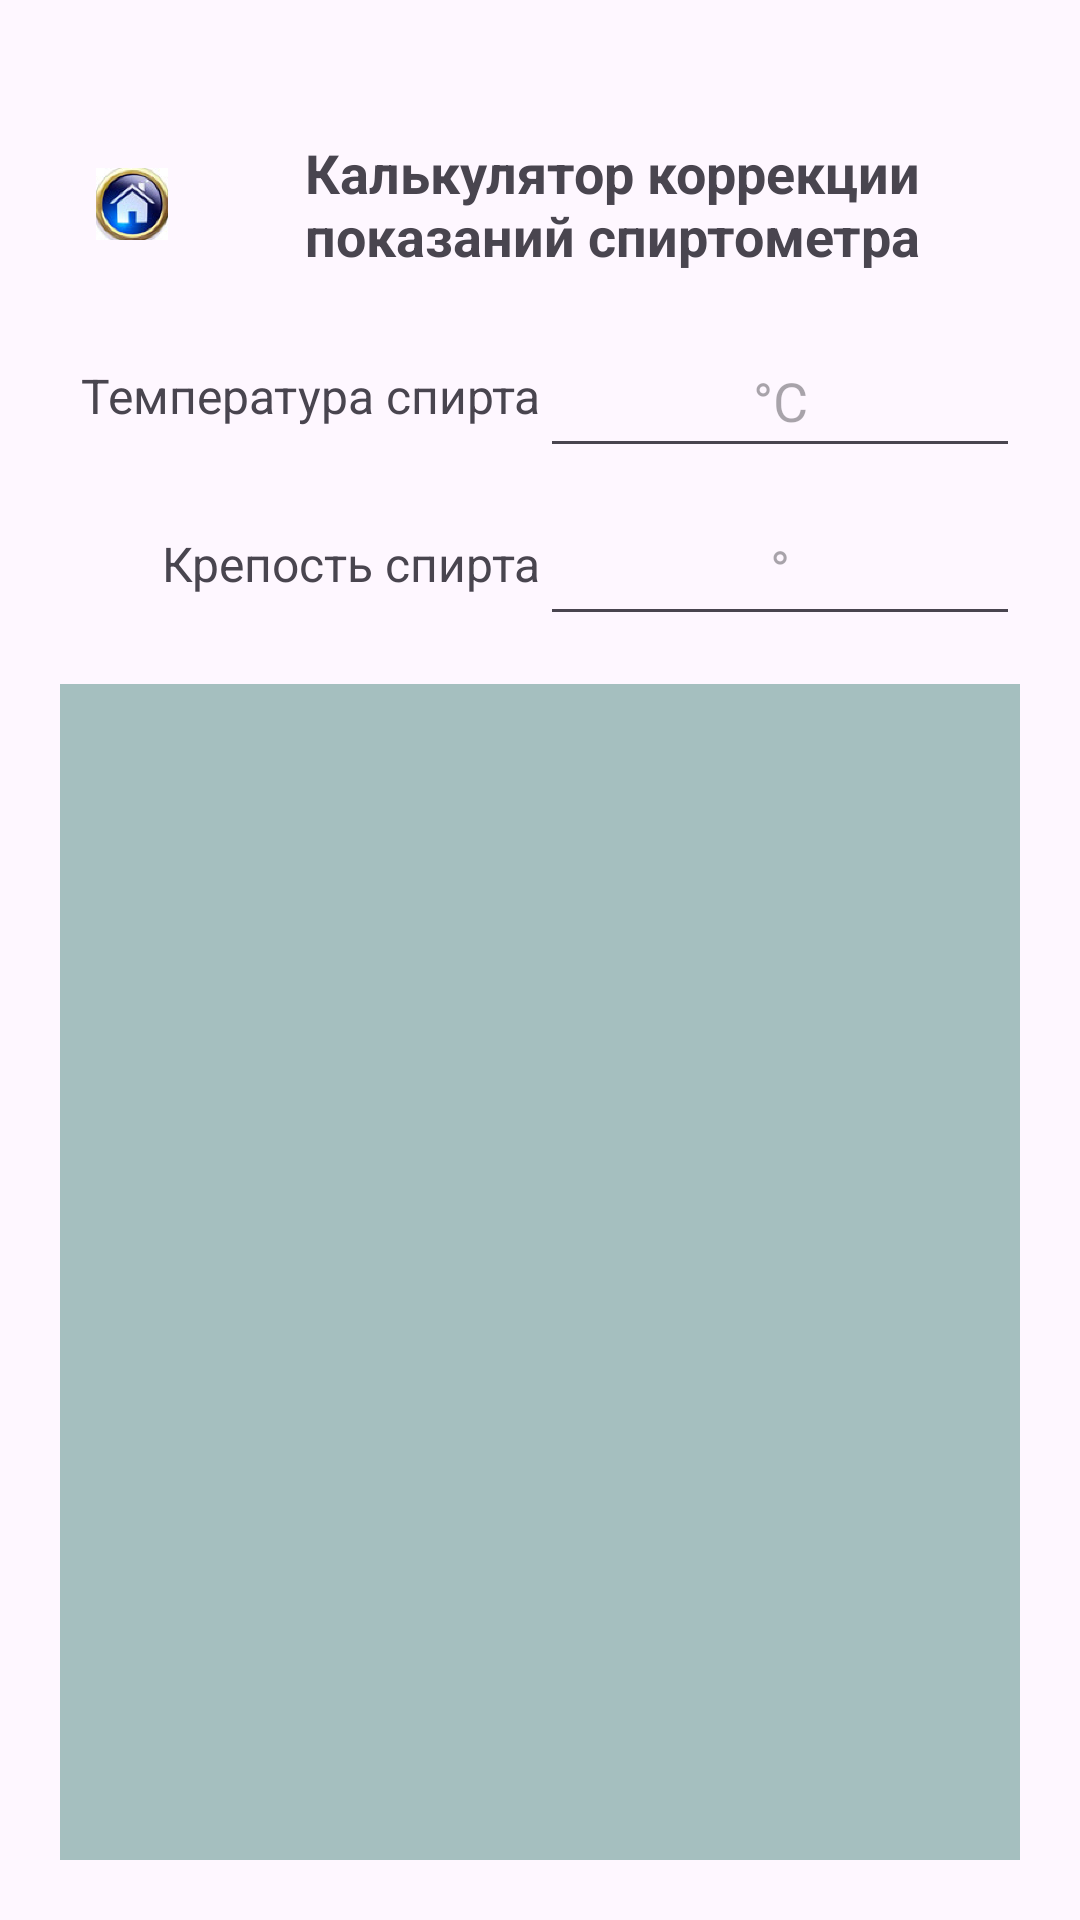

Locate icon controls on the screen. Image size 1080 × 1920, boxes as bbox(x1, y1, x2, y2).
На главную: bbox(96, 168, 168, 240)
